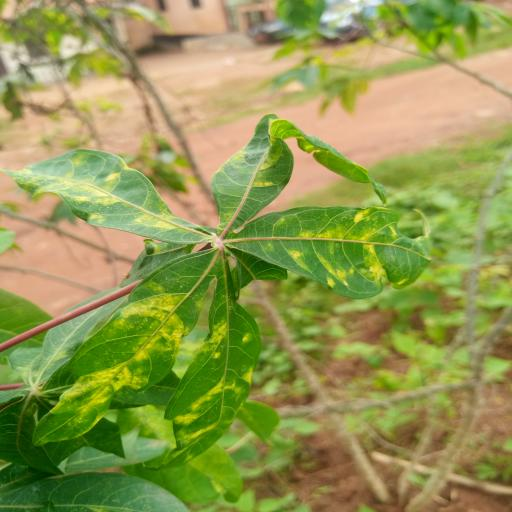Cassava_Mosaic: (8, 114, 436, 468)
